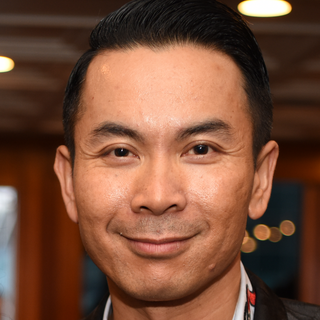eye: (172, 136, 231, 171), (90, 140, 145, 168)
